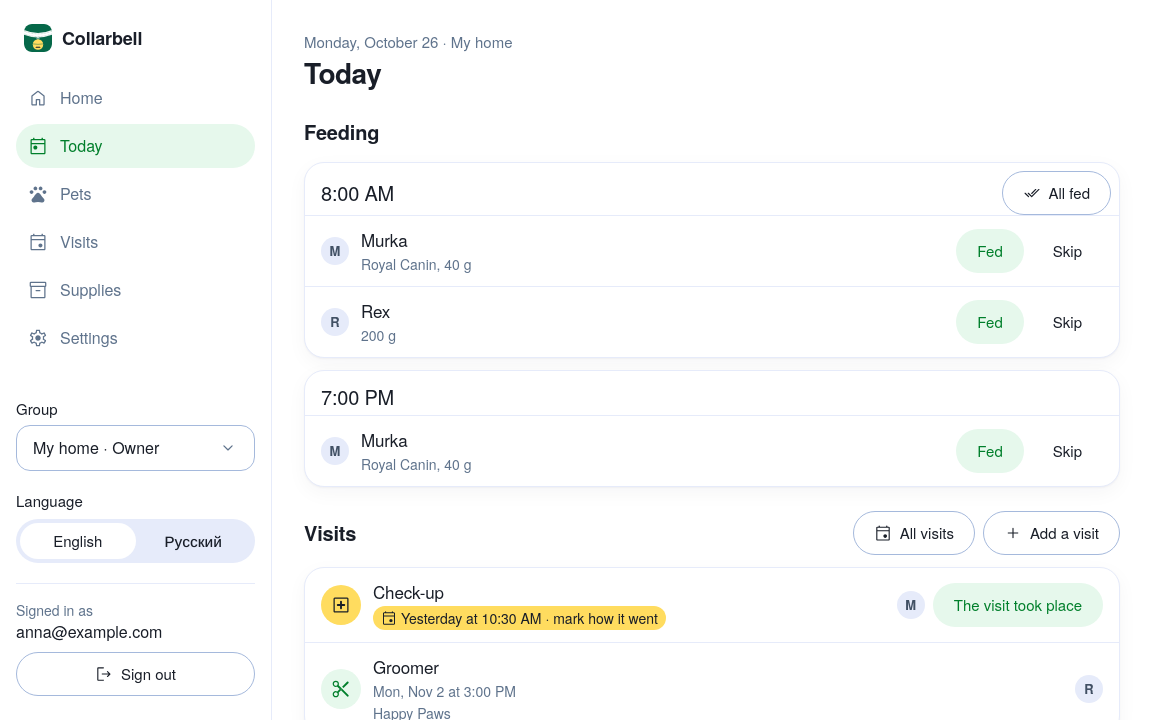
Test case: visits › marks a visit from Today without a record when that is the choice
Click the button with aria-label "The visit took place: Check-up" at (1018,605), box [933,583,1103,627]
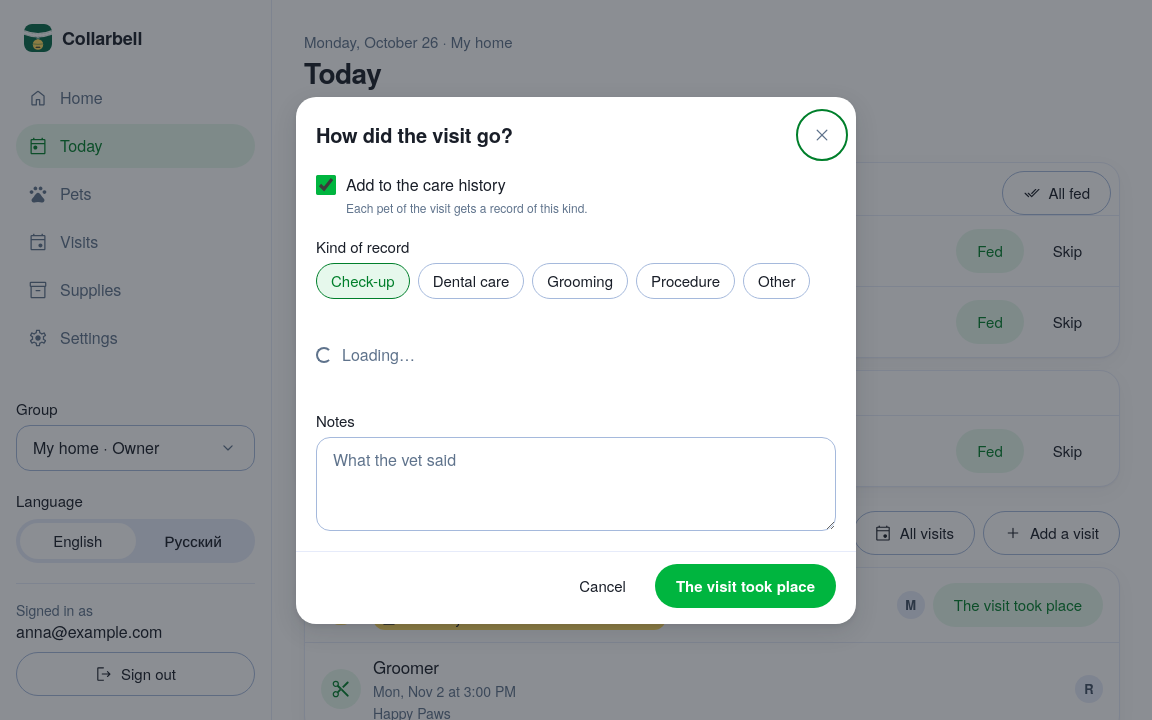
Click the checkbox labelled "Add to the care history" at (326,185), box [316,175,336,195]
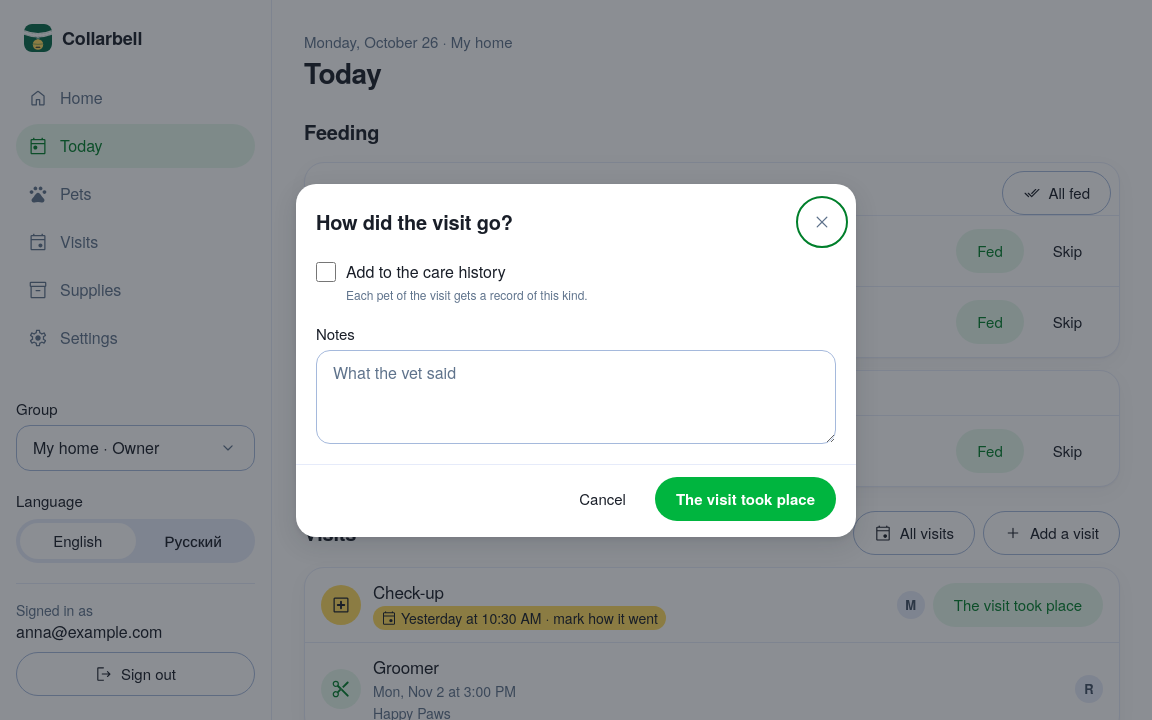
Click the button "The visit took place" at (745,498), box [655,476,836,520]
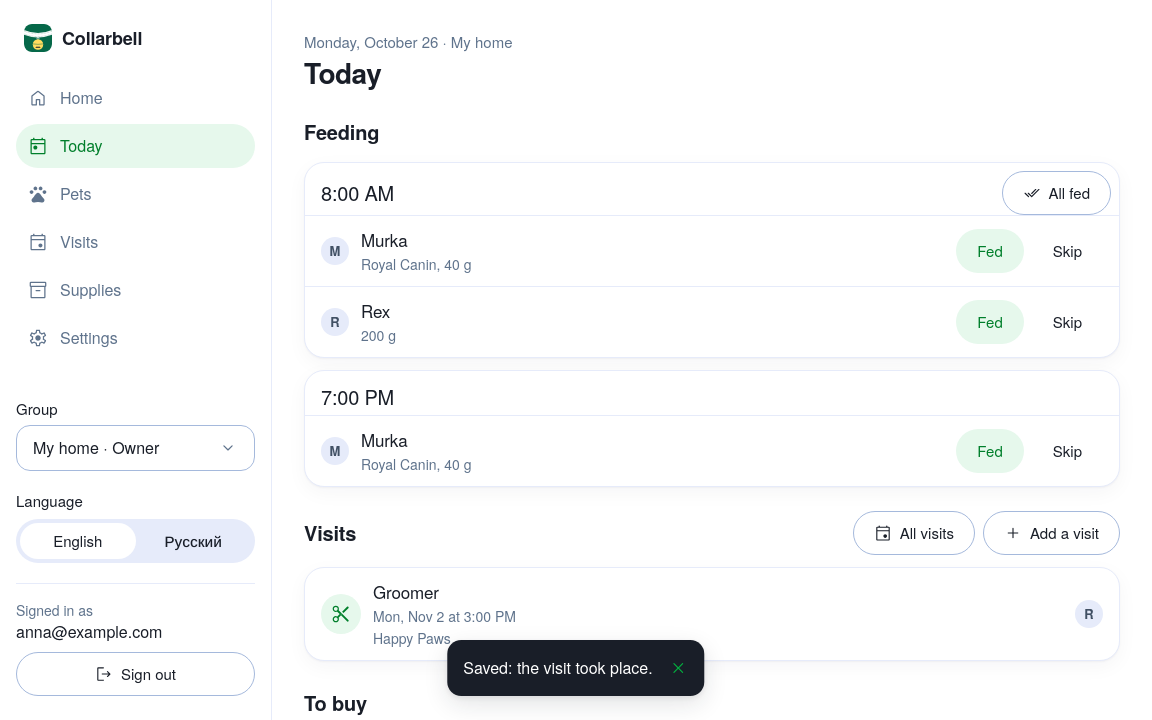
Now the text "Saved: the visit took place." is shown, box [463,656,653,680]
